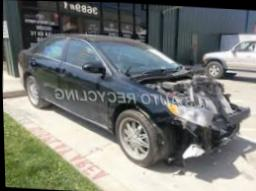Bonnet: (124, 63, 241, 115)
Bumper: (162, 107, 251, 169)
Fender: (125, 86, 180, 127)
